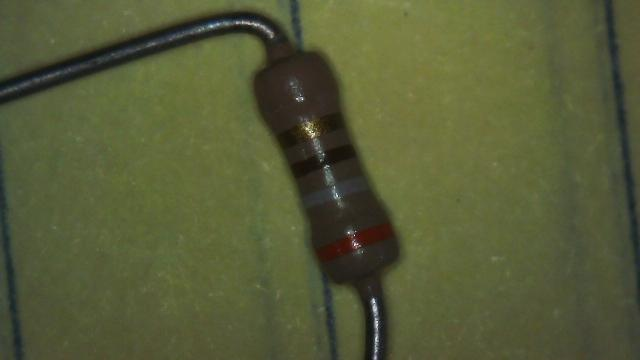brown: (291, 144, 356, 178)
gold: (278, 112, 344, 148)
orange: (315, 221, 394, 262)
resistor: (227, 18, 421, 295)
white: (301, 176, 368, 210)
